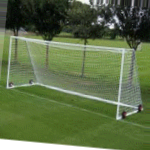goals: (4, 35, 144, 123)
